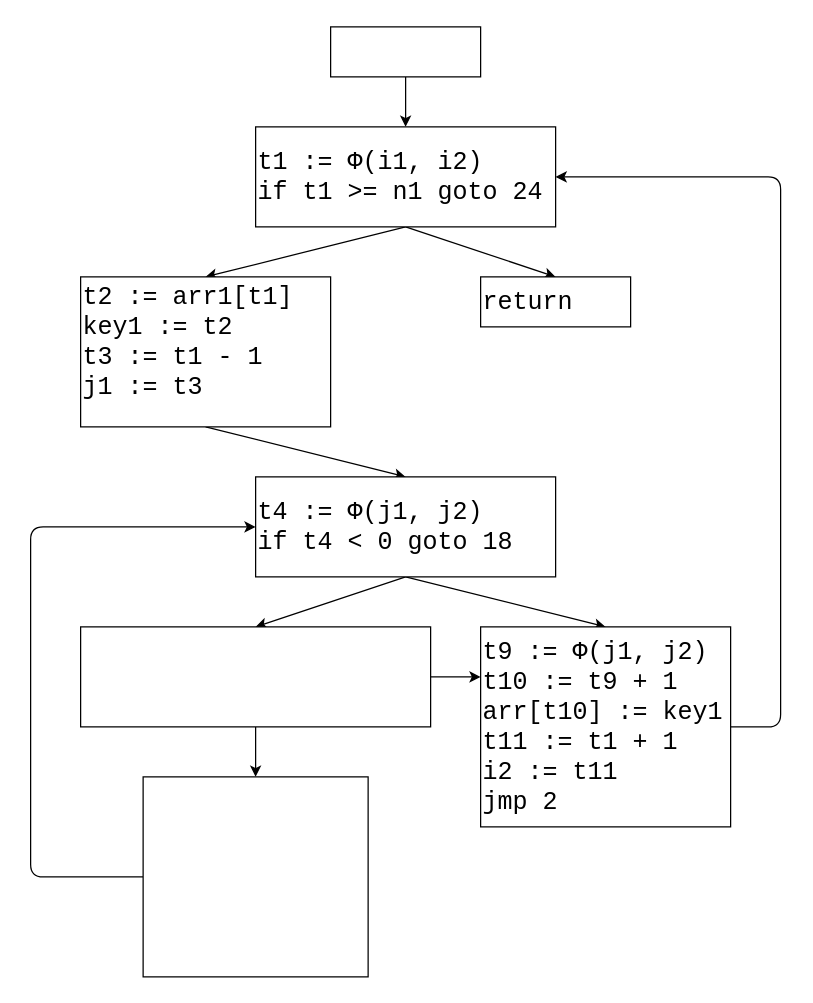
Some shapes in this 813 by 1003 pixel diagram are drawn without their labels. Each missing label, with the centre of its shape:
i1 := 1: the point at 405,51
t5 := arr1[t4] if t5 <= key1 goto 18: the point at 255,676
t6 := arr1[t4] t7 := t4 + 1 arr[t4] := t6 t8 := t4 - 1 j2 := t8 jmp 8: the point at 255,876
